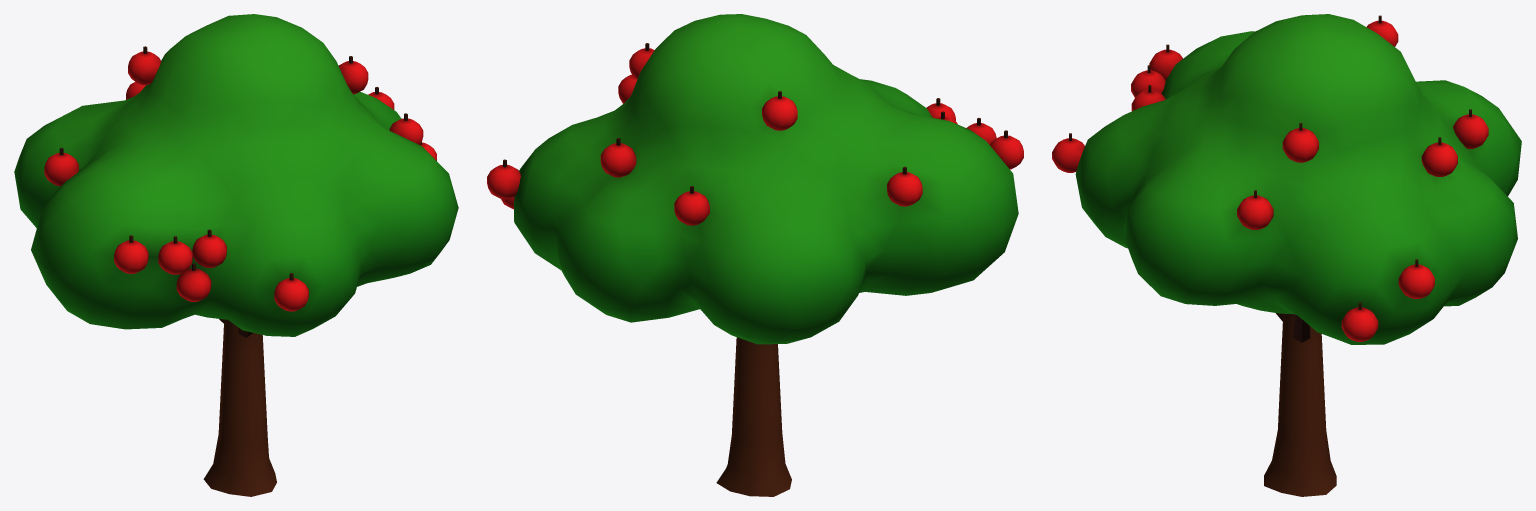
The model's file is Tree_Apple.fbx.
The picture shows the model from 3 angles, left to right: view 1: azimuth 30°, elevation 25°; view 2: azimuth 150°, elevation 25°; view 3: azimuth 270°, elevation 25°; orthographic projection. The views are drawn at different scales.
Parts seen in each view (by area): view 1: Canopy, Tree_Apple; view 2: Canopy, Tree_Apple; view 3: Canopy, Tree_Apple.
Boxes of the visible parts, left/top/right/bottom form: Canopy: left=14, top=14, right=458, bottom=336; Tree_Apple: left=203, top=319, right=276, bottom=496; Canopy: left=487, top=14, right=1023, bottom=344; Tree_Apple: left=716, top=337, right=791, bottom=496; Canopy: left=1052, top=14, right=1521, bottom=344; Tree_Apple: left=1264, top=313, right=1336, bottom=496.
Size of the model in its own units: 3.49 by 3.4 by 3.14.
